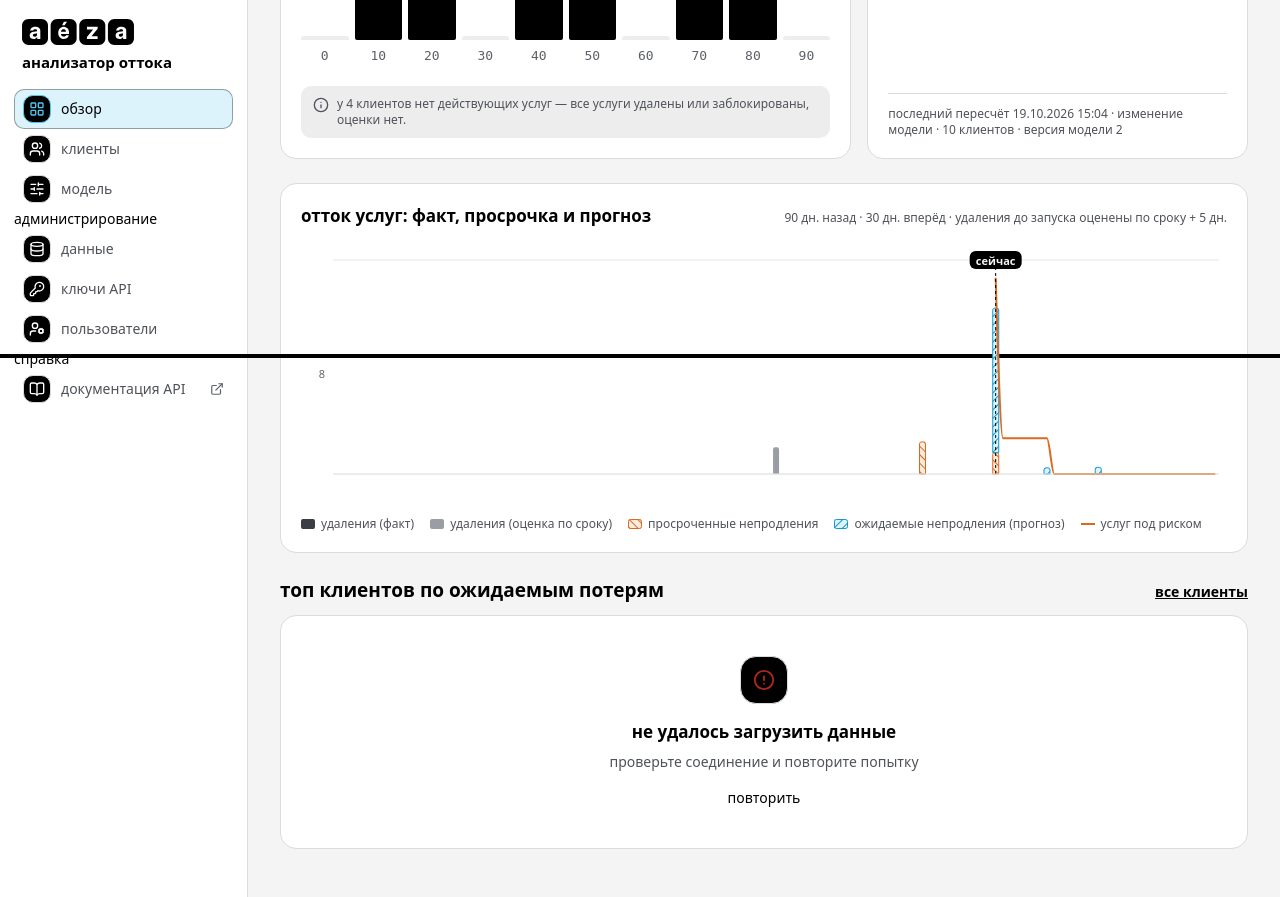
Scenario: overview page › keeps the other blocks working when one block fails and retries it
The width and height of the screenshot is (1280, 897).
(page scrolled)
Expected: the heading "не удалось загрузить данные" is shown, [632,720,896,744]
Click the button "повторить": {"x": 764, "y": 798} [728,788,800,808]
(page scrolled)
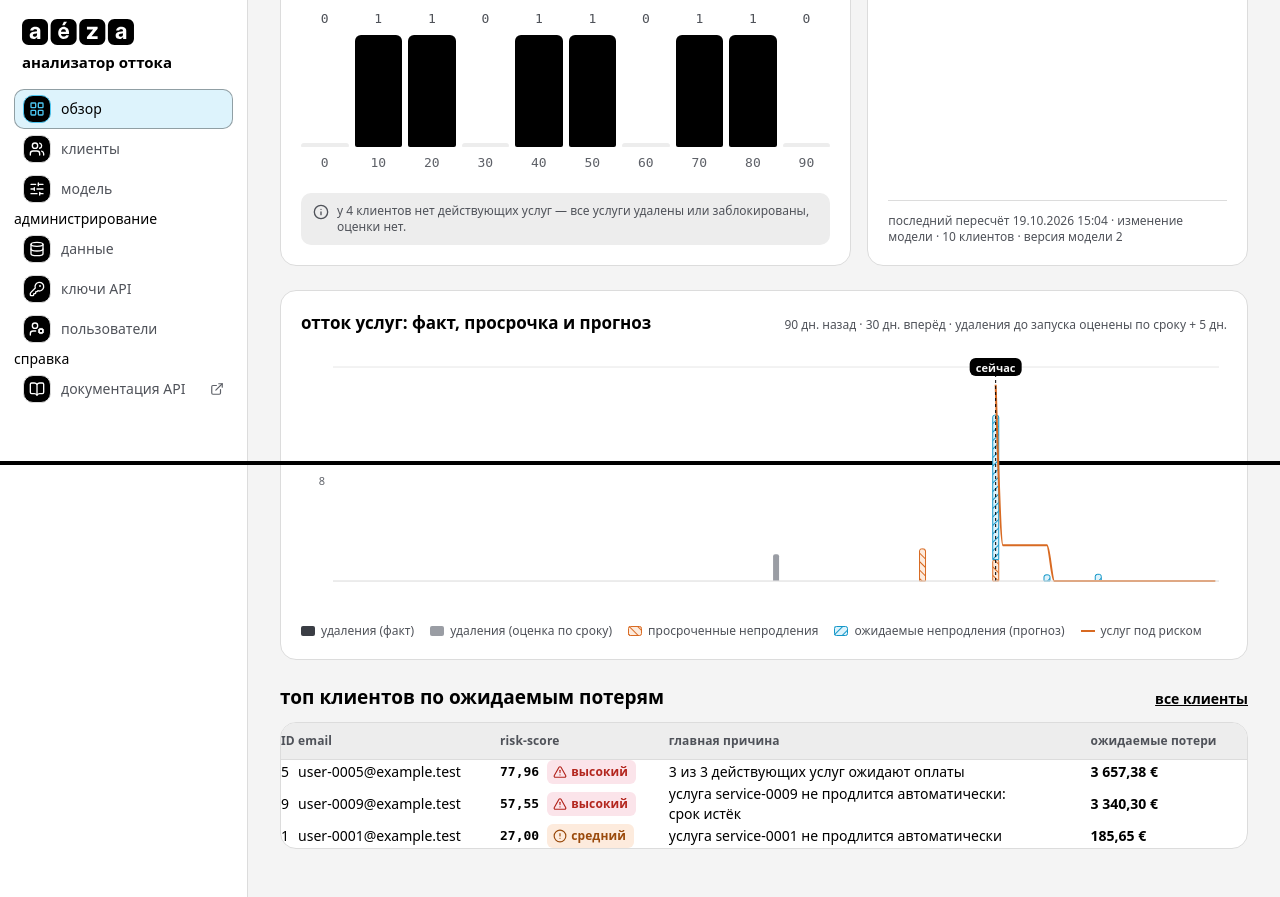
Expected: the table named "топ клиентов по ожидаемым потерям" is shown, [281,723,1247,848]
